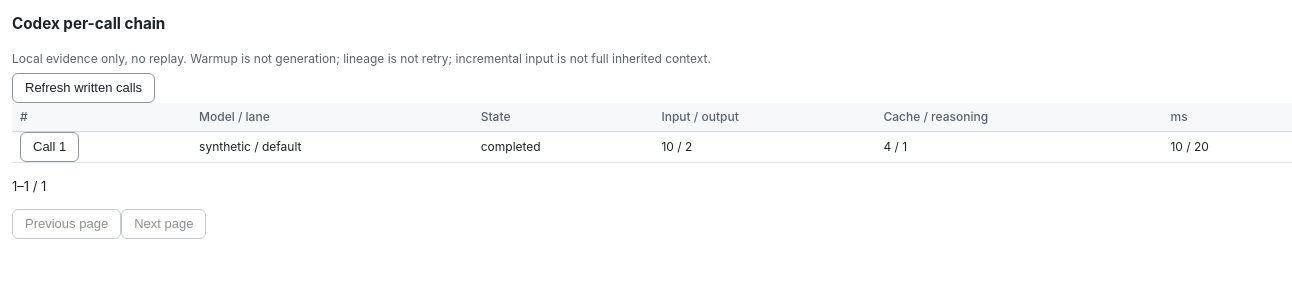
Test: selected Codex call chain › never restores a stale finalized-source fingerprint
Click the button "Call 1" at (50, 147), box [20,132,79,162]
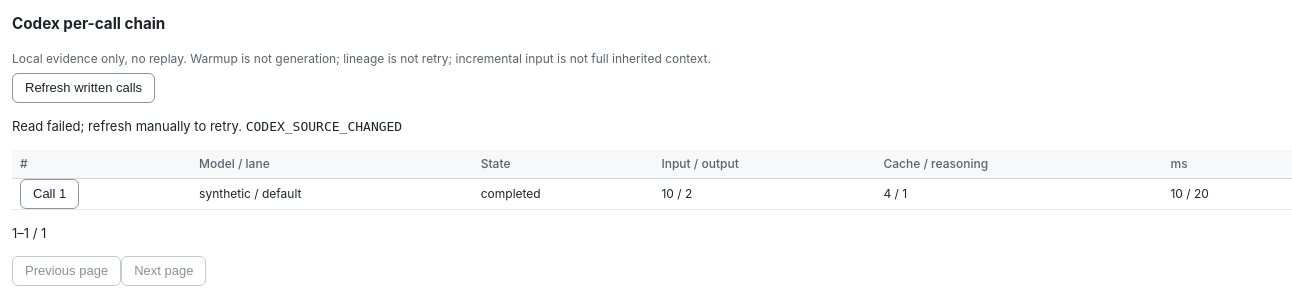
Result: the message "Read failed; refresh manually to retry. CODEX_SOURCE_CHANGED" is shown at [12,118,402,134]
